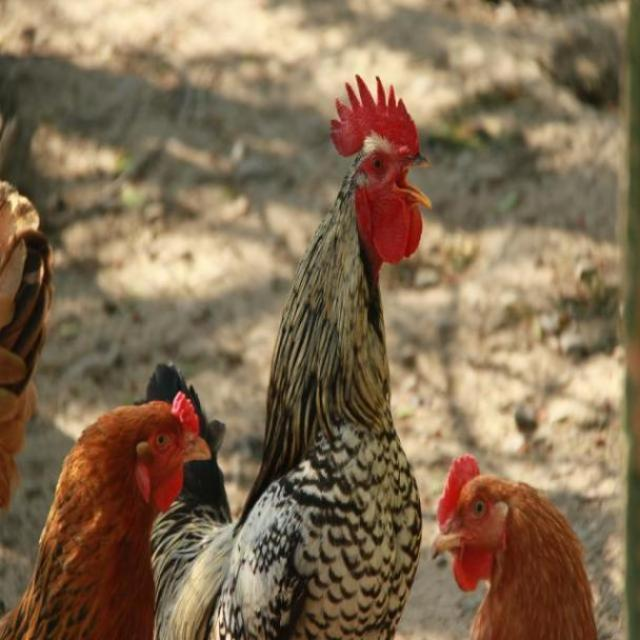Chicken: (143, 100, 438, 620), (0, 389, 215, 640), (426, 448, 603, 640)
